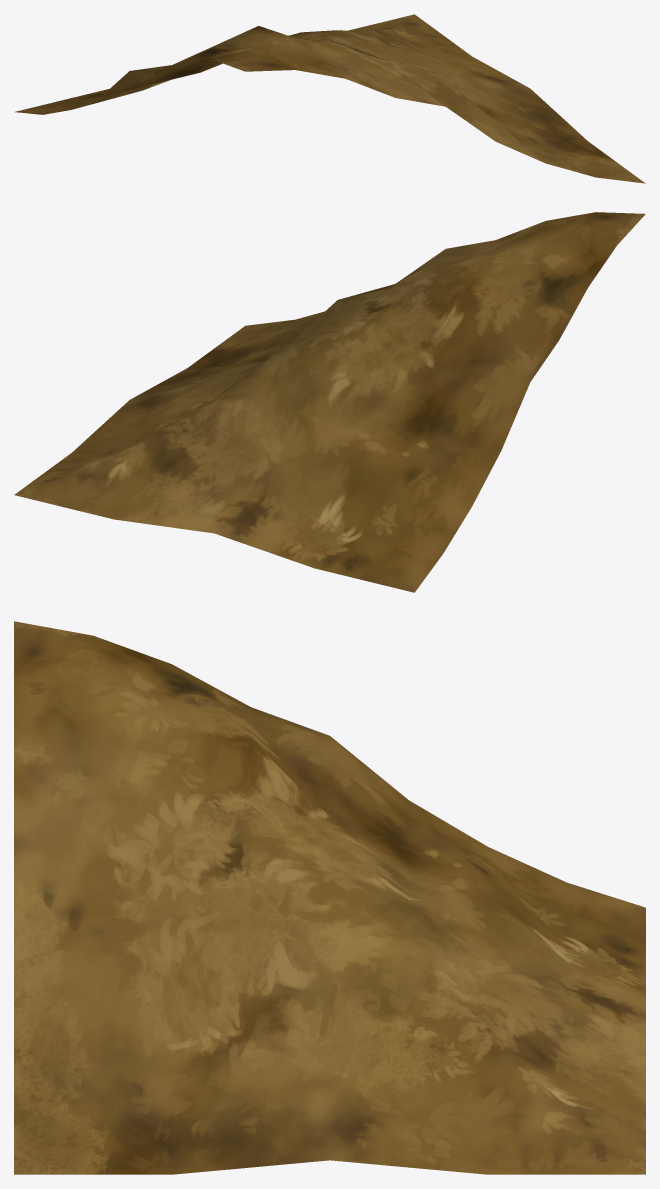
File: Slope_Corner_003.fbx
3 renders of one model, top to bottom at view 1: azimuth 30°, elevation 25°; view 2: azimuth 150°, elevation 25°; view 3: azimuth 270°, elevation 25°, orthographic. The views are drawn at different scales.
Visible parts, largest first — view 1: Slope_Corner_003; view 2: Slope_Corner_003; view 3: Slope_Corner_003.
Boxes of the visible parts, x1,y1,x2,y2 form: Slope_Corner_003: (15,14,645,183); Slope_Corner_003: (14,212,645,592); Slope_Corner_003: (14,621,645,1174).
Bounding box in the file's own units: 10 × 5 × 10.
Materials: 1 (1 with a texture image).
